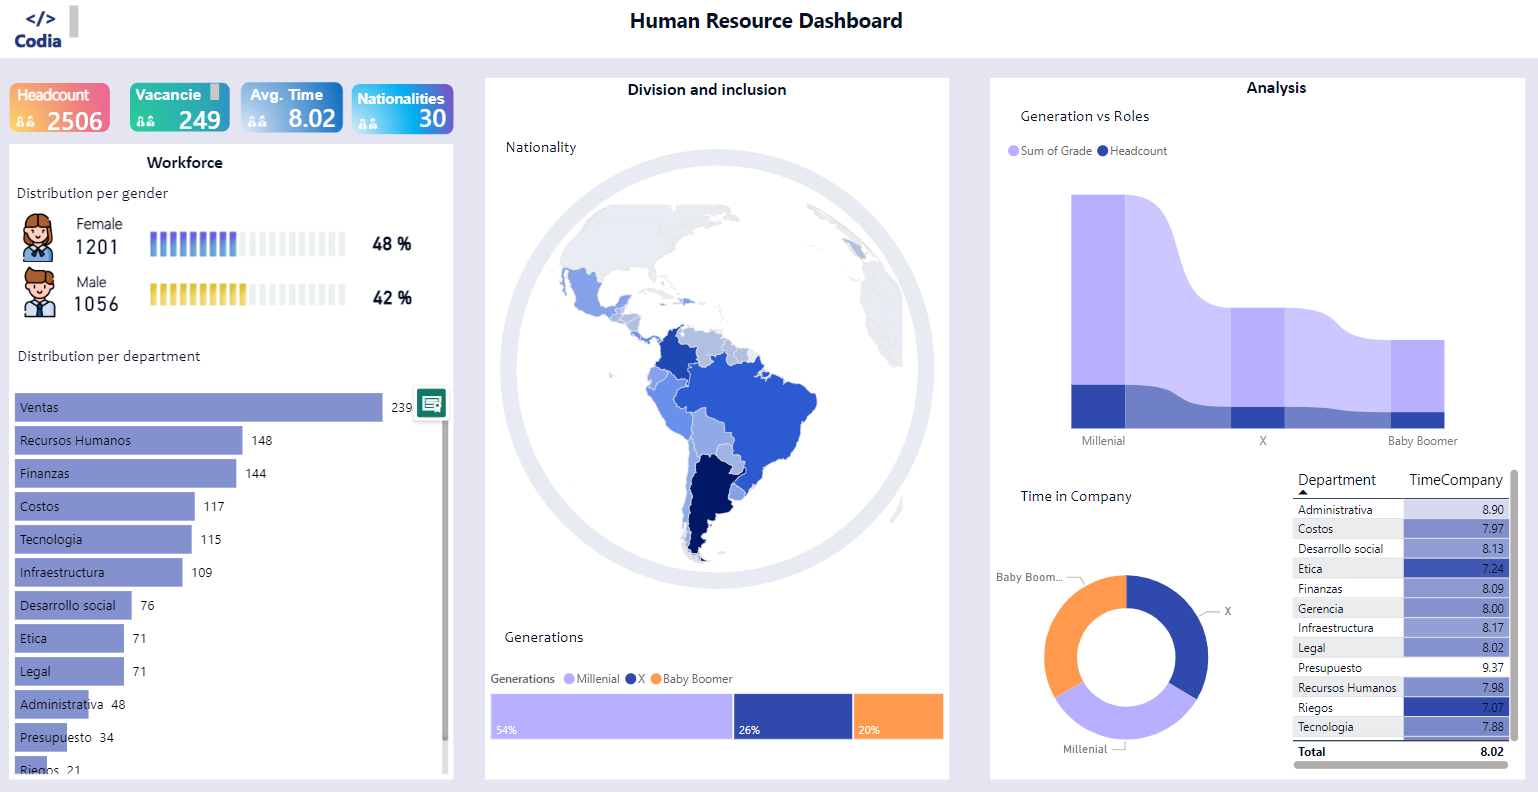

What the dashboard file says about the page in this screenshot:
{"tool":"powerbi","page":{"name":"Page 1","canvas":[1400,720],"ordinal":0},"visuals":[{"type":"shape","box":[901.1,62.2,497.8,654.4],"z":0},{"type":"shape","box":[442.2,62.2,422.2,657.8],"z":1000},{"type":"shape","box":[0,0,1400,53],"z":2000},{"type":"shape","box":[455,135,395,400],"z":3000},{"type":"shapeMap","fields":{"Category":["Table 1 (Sheet1).Post of Duty"],"Value":["Table 1 (Sheet1).Headcount"]},"box":[468,181,358,354],"z":4000},{"type":"image","box":[311.7,67.5,110.8,65.8],"z":5000},{"type":"image","box":[0,66.7,110,62.5],"z":6000},{"type":"image","box":[109.4,62.3,113.9,68.9],"z":7000},{"type":"image","box":[212.7,64,108.3,67.2],"z":8000},{"type":"shape","box":[0,131.1,413.3,588.9],"z":9000},{"type":"deneb7E15AEF80B9E4D4F8E12924291ECE89A","fields":{"dataset":["Table 1 (Sheet1).Measure","Table 1 (Sheet1).Female %"]},"box":[97.9,213.2,260,103.2],"z":10000},{"type":"deneb7E15AEF80B9E4D4F8E12924291ECE89A","fields":{"dataset":["Table 1 (Sheet1).Measure","Table 1 (Sheet1).Male %","Table 1 (Sheet1).Female %"]},"box":[97.9,165.3,260,105.8],"z":11000},{"type":"textbox","box":[550,0,300,39],"z":12000},{"type":"image","box":[9.3,235,55.7,60],"z":13000},{"type":"image","box":[5.7,189.3,59.3,53.6],"z":14000},{"type":"textbox","box":[65.3,240.5,48.9,30.5],"z":15000},{"type":"card","fields":{"Values":["Table 1 (Sheet1).Female"]},"box":[60.5,207.4,55.8,33.2],"z":16000},{"type":"card","fields":{"Values":["Table 1 (Sheet1).Female %"]},"box":[327.5,202.5,60,38.8],"z":17000},{"type":"card","fields":{"Values":["Table 1 (Sheet1).Male %"]},"box":[330,251.6,55.3,38.9],"z":18000},{"type":"card","fields":{"Values":["Table 1 (Sheet1).Male"]},"box":[57.4,255.3,61.6,41.6],"z":19000},{"type":"textbox","box":[128.9,133.2,128.9,32.1],"z":20000},{"type":"textbox","box":[65.3,188.4,64.7,35.8],"z":21000},{"type":"textbox","box":[10.9,160,270,42.7],"z":22000},{"type":"textbox","box":[12.2,307.8,235.6,38.9],"z":23000},{"type":"horizontalBarChartPBICraft","fields":{"category":["Table 1 (Sheet1).Department"],"measure":["Table 1 (Sheet1).Female"],"overlapValues":["Table 1 (Sheet1).Headcount"]},"box":[1.1,346.7,412.2,362.2],"z":24000},{"type":"textbox","box":[555,62.5,221.2,76.2],"z":25000},{"type":"textbox","box":[1130,63.8,127.5,36.2],"z":26000},{"type":"treemap","fields":{"Group":["Table 1 (Sheet1).Generations"],"Values":["Table 1 (Sheet1).Headcount"]},"box":[442.2,622.2,422.2,78.9],"z":27000},{"type":"textbox","box":[455.6,117.8,270,43.3],"z":28000},{"type":"textbox","box":[454.4,563.3,270,43.3],"z":29000},{"type":"ribbonChart","fields":{"Category":["Table 1 (Sheet1).Generations"],"Y":["Sum(Table 1 (Sheet1).Grade)","Table 1 (Sheet1).Headcount"]},"box":[912.2,117.8,474.4,300],"z":30000},{"type":"donutChart","fields":{"Category":["Table 1 (Sheet1).Generations"],"Y":["Table 1 (Sheet1).TimeCompany"]},"box":[901.1,477.8,247.8,238.9],"z":31000},{"type":"textbox","box":[923.3,90,270,42.2],"z":32000},{"type":"textbox","box":[923.3,435.6,270,42.2],"z":33000},{"type":"tableEx","fields":{"Values":["Table 1 (Sheet1).Department","Table 1 (Sheet1).TimeCompany"]},"box":[1171.1,435.6,216.7,284.4],"z":34000},{"type":"card","fields":{"Values":["Table 1 (Sheet1).Headcount"]},"box":[28.9,90,80,41.1],"z":35000},{"type":"card","fields":{"Values":["Table 1 (Sheet1).Headcount"]},"box":[145.6,74.4,74.4,70],"z":36000},{"type":"card","fields":{"Values":["Table 1 (Sheet1).TimeCompany"]},"box":[247.8,82.2,73.3,53.3],"z":37000},{"type":"card","fields":{"Values":["Count(Table 1 (Sheet1).Post of Duty)"]},"box":[366.7,82.2,55.6,53.3],"z":38000},{"type":"textbox","box":[12.2,71.1,85.6,28.9],"z":39001},{"type":"textbox","box":[118.9,71.1,85.6,28.9],"z":39002},{"type":"textbox","box":[223.3,71.1,85.6,28.9],"z":39003},{"type":"textbox","box":[321.1,74.4,102.2,30],"z":39004},{"type":"textbox","box":[1.1,0,67.8,53.3],"z":39005}]}

Visuals, with their boxes in screenshot pixels (x1, y1, x2, y2), scaled from the page's 1400x720 canvas onto the 1538x792 screenshot:
shape: detection(990, 68, 1537, 788)
shape: detection(486, 68, 950, 791)
shape: detection(0, 0, 1537, 58)
shape: detection(500, 148, 934, 588)
shapeMap - Table 1 (Sheet1).Post of Duty x Table 1 (Sheet1).Headcount: detection(514, 199, 907, 588)
image: detection(342, 74, 464, 147)
image: detection(0, 73, 121, 142)
image: detection(120, 69, 245, 144)
image: detection(234, 70, 353, 144)
shape: detection(0, 144, 454, 791)
deneb7E15AEF80B9E4D4F8E12924291ECE89A - Table 1 (Sheet1).Measure x Table 1 (Sheet1).Female %: detection(108, 235, 393, 348)
deneb7E15AEF80B9E4D4F8E12924291ECE89A - Table 1 (Sheet1).Measure x Table 1 (Sheet1).Male %: detection(108, 182, 393, 298)
textbox: detection(604, 0, 934, 43)
image: detection(10, 258, 71, 324)
image: detection(6, 208, 71, 267)
textbox: detection(72, 265, 125, 298)
card - Table 1 (Sheet1).Female: detection(66, 228, 128, 265)
card - Table 1 (Sheet1).Female %: detection(360, 223, 426, 265)
card - Table 1 (Sheet1).Male %: detection(363, 277, 423, 320)
card - Table 1 (Sheet1).Male: detection(63, 281, 131, 327)
textbox: detection(142, 147, 283, 182)
textbox: detection(72, 207, 143, 247)
textbox: detection(12, 176, 309, 223)
textbox: detection(13, 339, 272, 381)
horizontalBarChartPBICraft - Table 1 (Sheet1).Department x Table 1 (Sheet1).Female: detection(1, 381, 454, 780)
textbox: detection(610, 69, 853, 153)
textbox: detection(1241, 70, 1381, 110)
treemap - Table 1 (Sheet1).Generations x Table 1 (Sheet1).Headcount: detection(486, 684, 950, 771)
textbox: detection(501, 130, 797, 177)
textbox: detection(499, 620, 796, 667)
ribbonChart - Table 1 (Sheet1).Generations x Sum(Table 1 (Sheet1).Grade): detection(1002, 130, 1523, 460)
donutChart - Table 1 (Sheet1).Generations x Table 1 (Sheet1).TimeCompany: detection(990, 526, 1262, 788)
textbox: detection(1014, 99, 1311, 145)
textbox: detection(1014, 479, 1311, 526)
tableEx - Table 1 (Sheet1).Department x Table 1 (Sheet1).TimeCompany: detection(1287, 479, 1525, 791)
card - Table 1 (Sheet1).Headcount: detection(32, 99, 120, 144)
card - Table 1 (Sheet1).Headcount: detection(160, 82, 242, 159)
card - Table 1 (Sheet1).TimeCompany: detection(272, 90, 353, 149)
card - Count(Table 1 (Sheet1).Post of Duty): detection(403, 90, 464, 149)
textbox: detection(13, 78, 107, 110)
textbox: detection(131, 78, 225, 110)
textbox: detection(245, 78, 339, 110)
textbox: detection(353, 82, 465, 115)
textbox: detection(1, 0, 76, 59)
